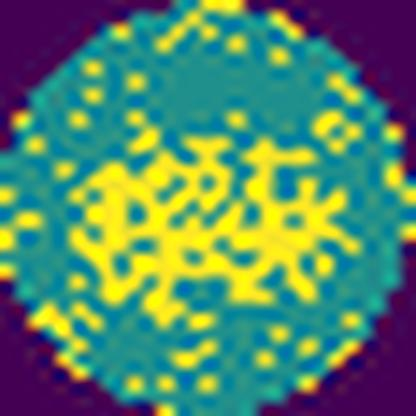Center: (73, 134, 359, 330)
